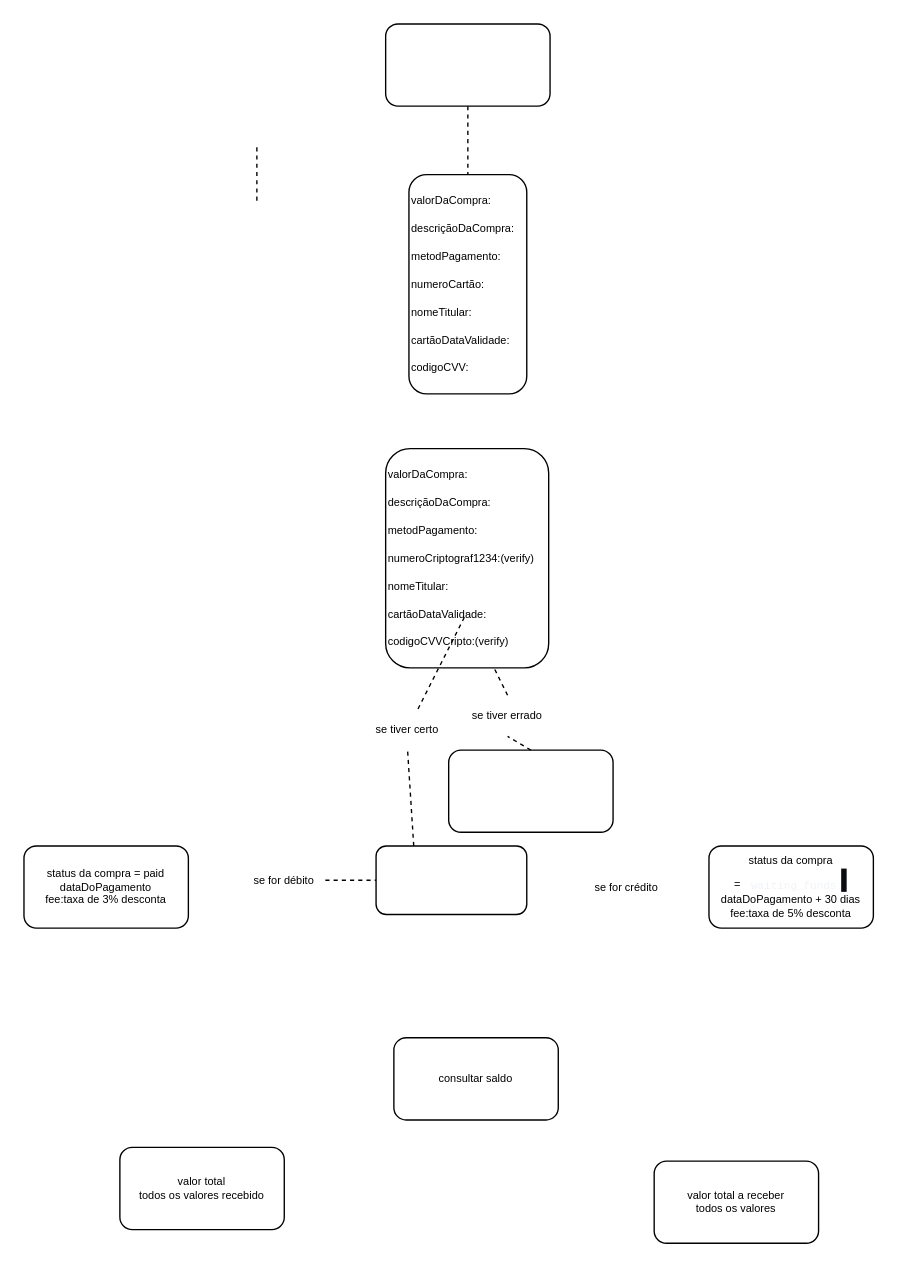
Image size: 897x1267. Some labels were removed from this diagram. Each missing label, with the box of its shape:
senha errada 3 tentativas apos block cartão: (447, 749, 613, 832)
transactions: (384, 23, 550, 106)
verificar se é débito ou crédito: (375, 845, 527, 914)
